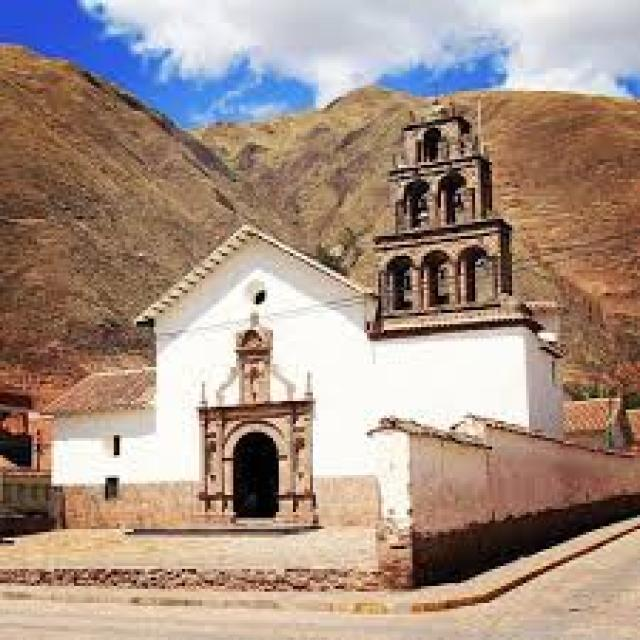6: (349, 80, 570, 564)
CAMPANARIO: (380, 105, 529, 336)
CUPULA: (0, 56, 617, 603)
SIMETRIA COLONIAL: (187, 378, 342, 528)
